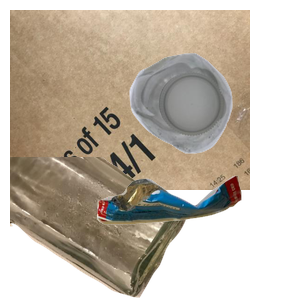cardboard: (10, 10, 250, 190)
glass: (10, 157, 190, 300)
plastic: (127, 51, 300, 197)
trash: (94, 173, 300, 300)
